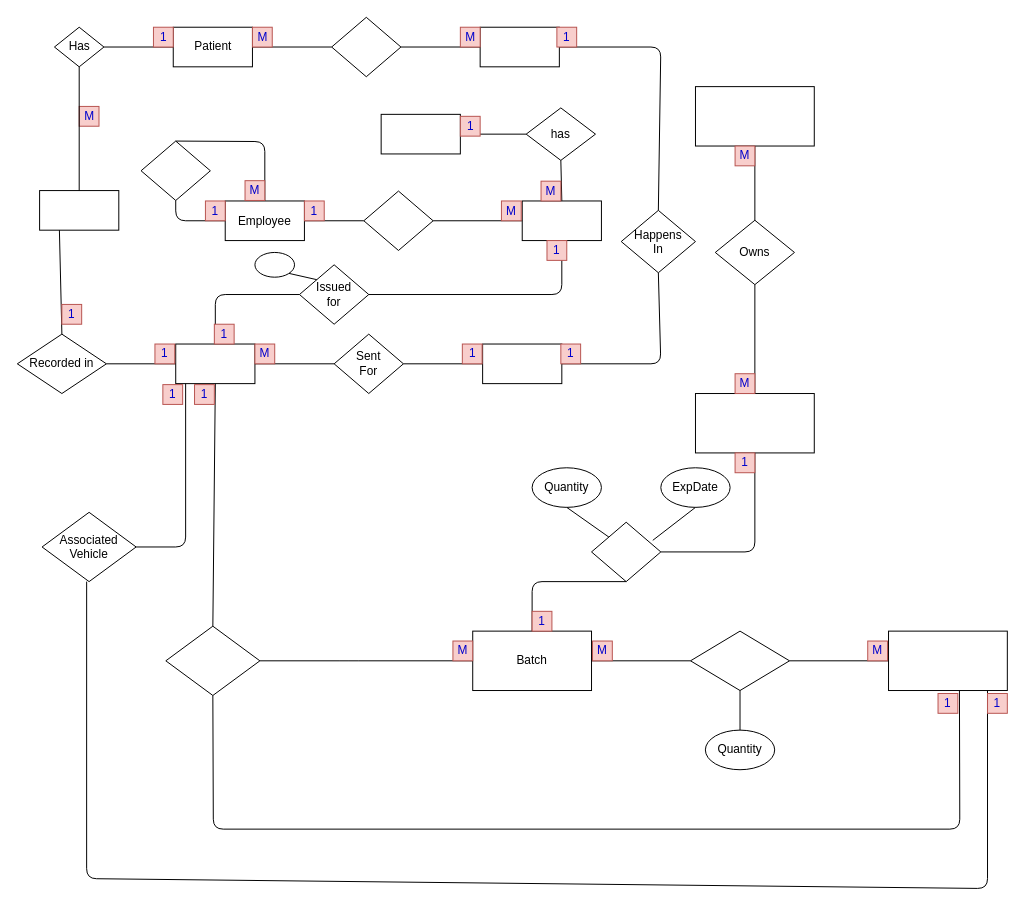
This 1025x907 diagram has some shape labels left out. Each missing label, with the centre of its shape:
Ambulance Vehicle: the point at 947,660
Contain: the point at 626,551
Cost: the point at 274,264
Distributed on: the point at 740,660
Incident: the point at 522,363
Issue: the point at 398,220
Lives in: the point at 366,46
Location: the point at 519,46
Medical Record: the point at 79,210
Medicine: the point at 754,423
Medicine Used: the point at 212,660
Payment Method: the point at 420,133
PharmaCompany: the point at 754,116
Receipt: the point at 561,220
Response: the point at 215,363
Supervise: the point at 175,170
